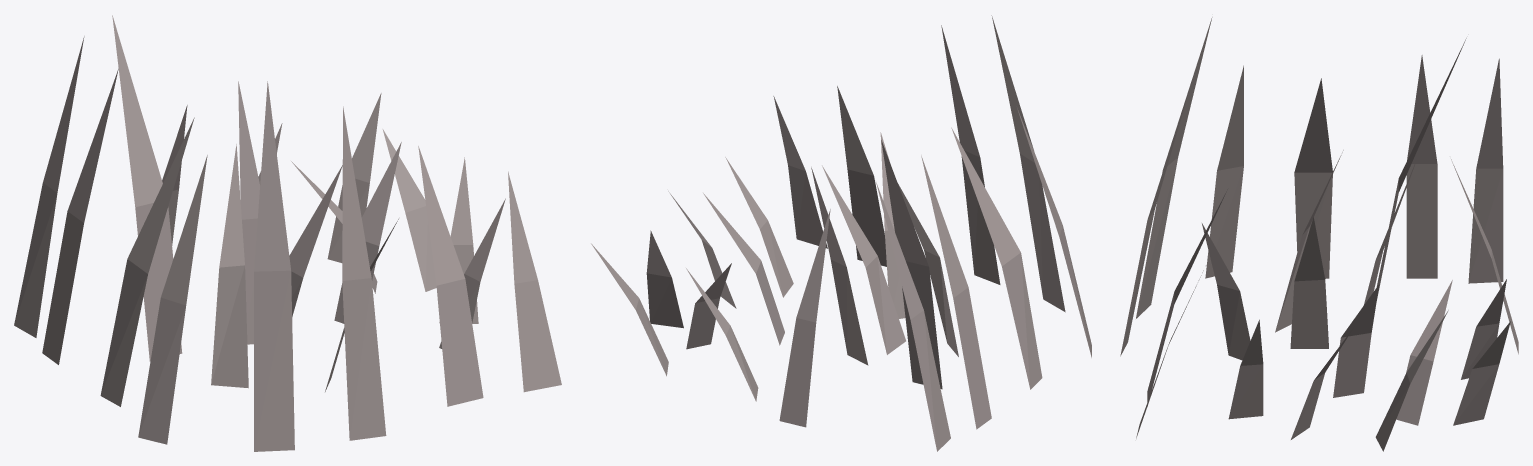
3 renders of one model, left to right at view 1: azimuth 30°, elevation 25°; view 2: azimuth 150°, elevation 25°; view 3: azimuth 270°, elevation 25°, orthographic. The views are drawn at different scales.
Size of the model in its own units: 110 by 89 by 103.
Materials: 1 (1 with a texture image).
